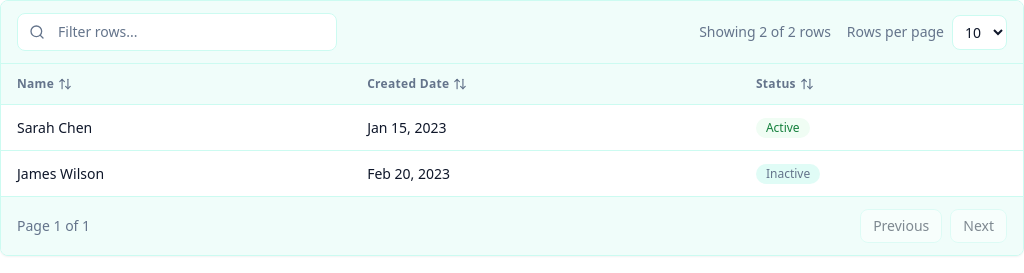
Test: DataTable › sorts rows when header is clicked
Click the button "Name". click: (45, 84)
box: [17, 76, 72, 92]
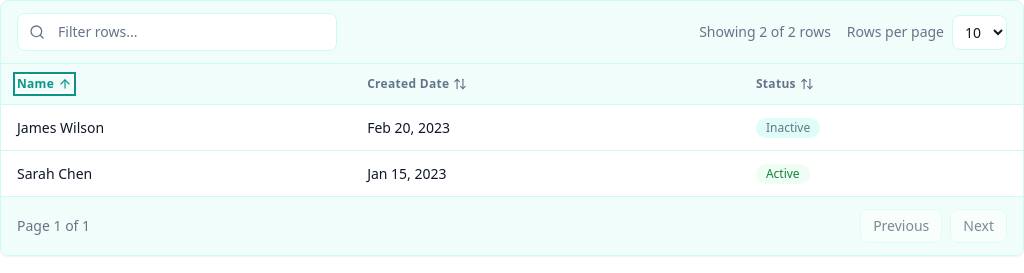
Expected: the cell "James Wilson" is shown, [1, 104, 351, 150]
